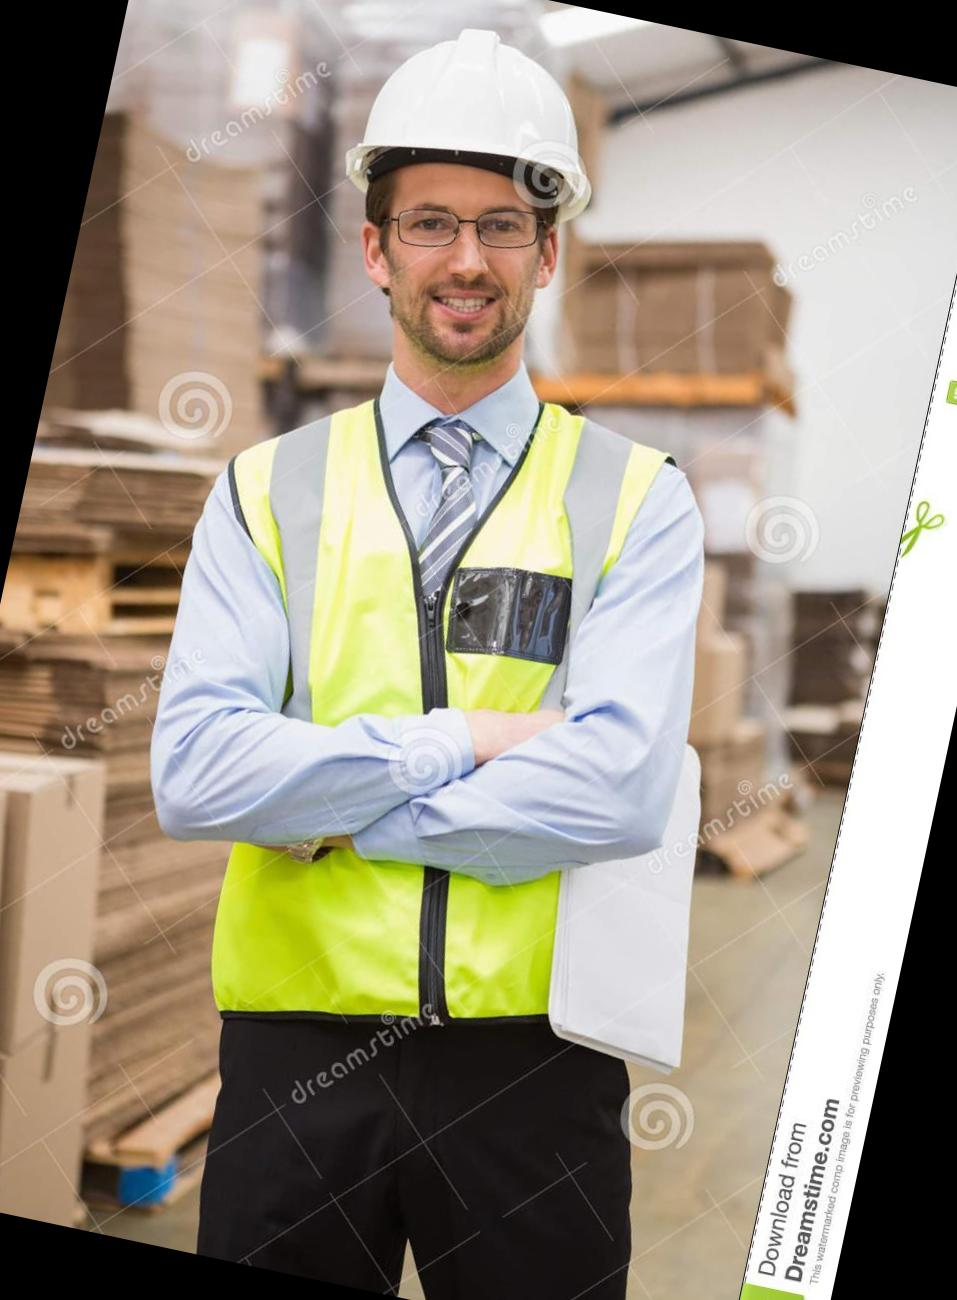Helmet: (324, 24, 616, 226)
Vest: (120, 398, 727, 1055)
